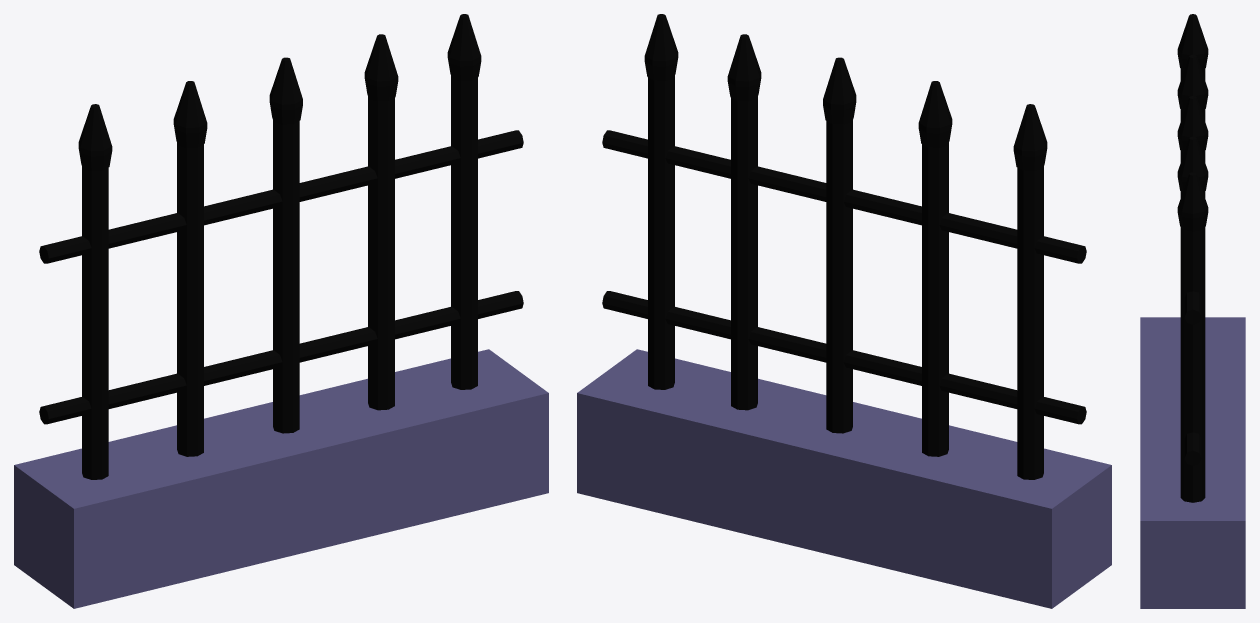
File: Fence_Metal_04.fbx
3 views of the same model, side by side, from view 1: azimuth 30°, elevation 25°; view 2: azimuth 150°, elevation 25°; view 3: azimuth 270°, elevation 25° (orthographic). The views are drawn at different scales.
Parts seen in each view (by area): view 1: Fence_04; view 2: Fence_04; view 3: Fence_04.
Part boxes in pixels (x1,y1,x2,y2): Fence_04: (14, 14, 548, 608); Fence_04: (577, 14, 1111, 608); Fence_04: (1140, 14, 1245, 608).
Size of the model in its own units: 199 by 187 by 43.41.
